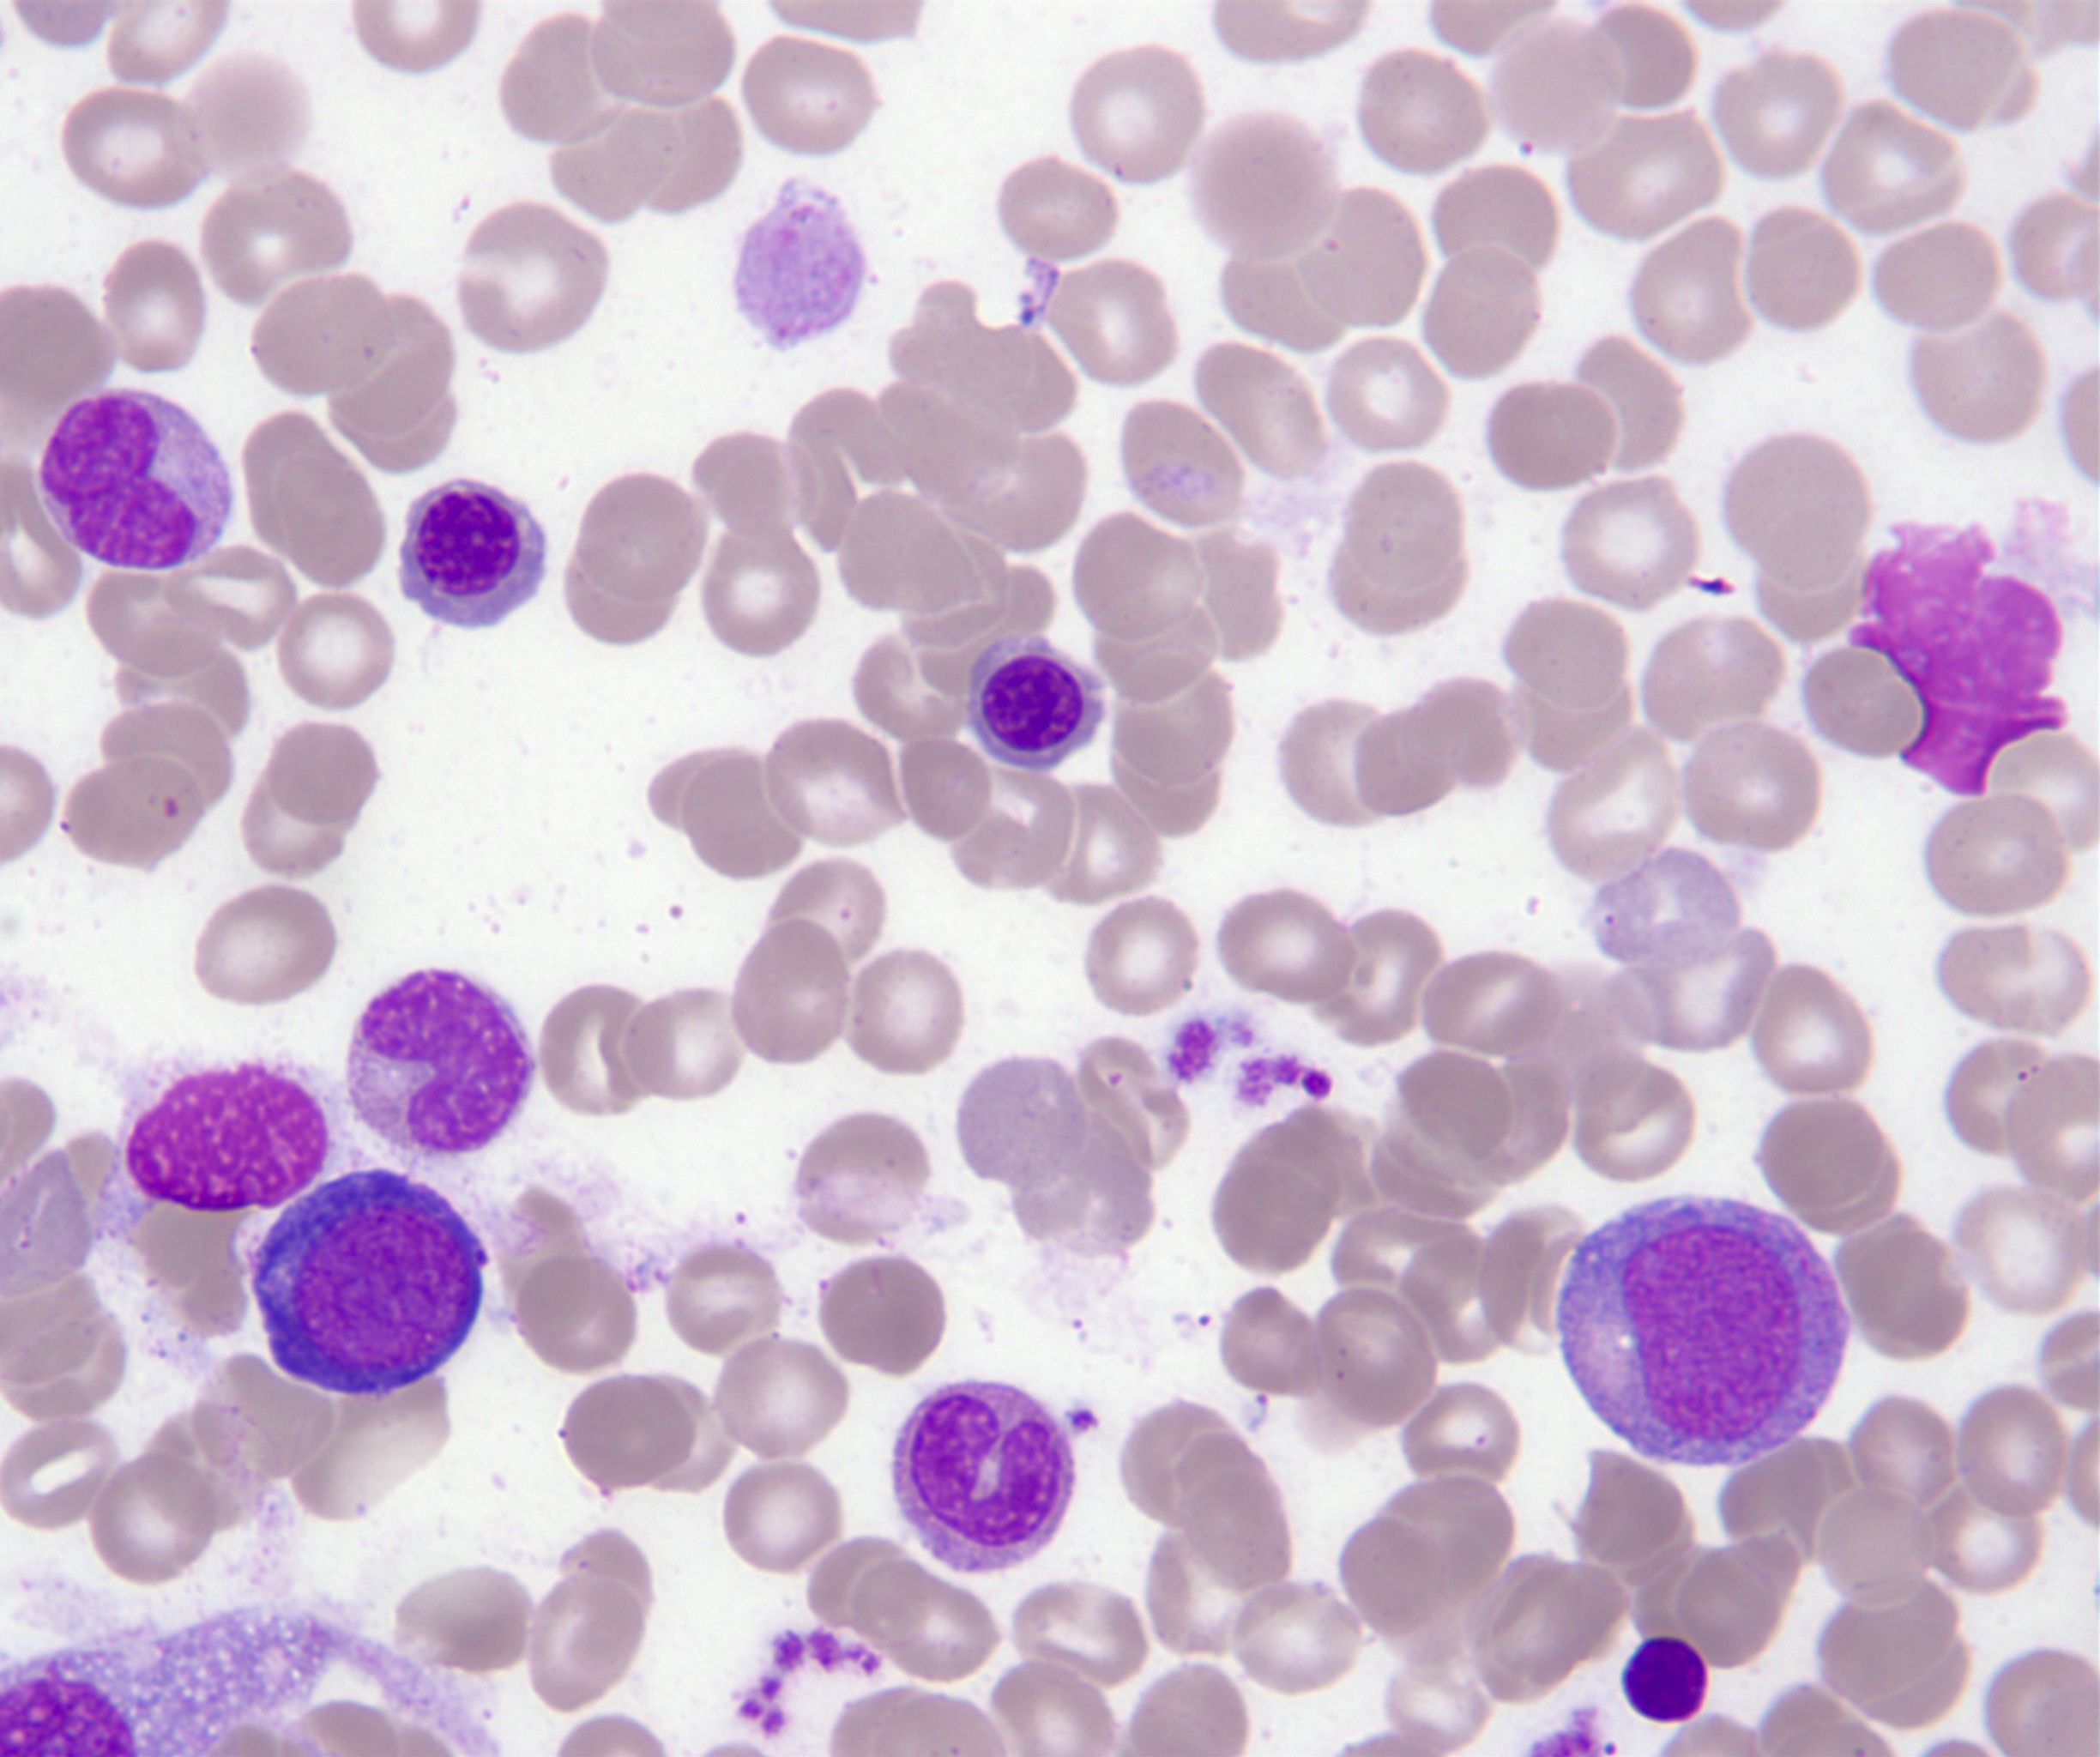2: (1559, 1199, 1845, 1467)
21: (253, 1171, 485, 1394)
23: (399, 480, 544, 628)
24: (966, 639, 1102, 768)
4: (33, 391, 230, 572), (345, 968, 534, 1157)
5: (893, 1382, 1074, 1572)
x: (1851, 520, 2069, 797), (124, 1066, 330, 1213), (1624, 1637, 1709, 1724)
